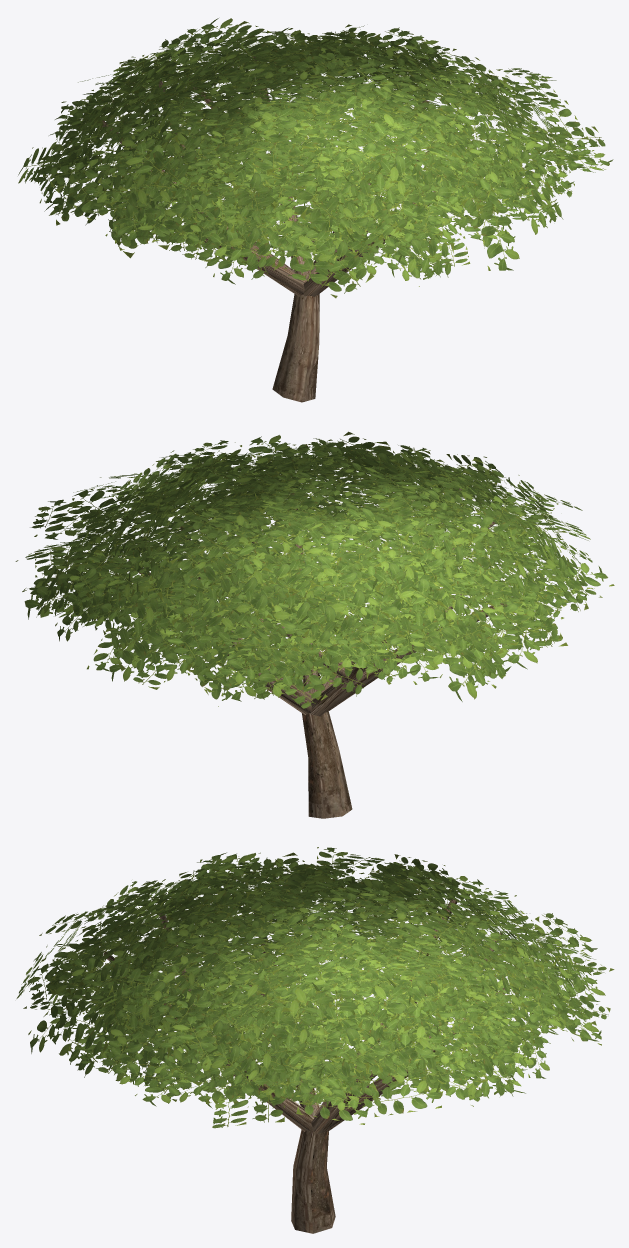
Rendered from acacia.glb.
The picture shows the model from 3 angles, top to bottom: view 1: azimuth 30°, elevation 25°; view 2: azimuth 150°, elevation 25°; view 3: azimuth 270°, elevation 25°; orthographic projection. The views are drawn at different scales.
Parts seen in each view (by area): view 1: acacia; view 2: acacia; view 3: acacia.
Part boxes in pixels (box(x1,y1,x2,y2)): acacia: box(18, 18, 613, 402); acacia: box(15, 431, 614, 818); acacia: box(16, 847, 614, 1233).
Size of what is drawn, in the model's own units: 9 by 5.09 by 8.94.
1 material, 1 textured.
